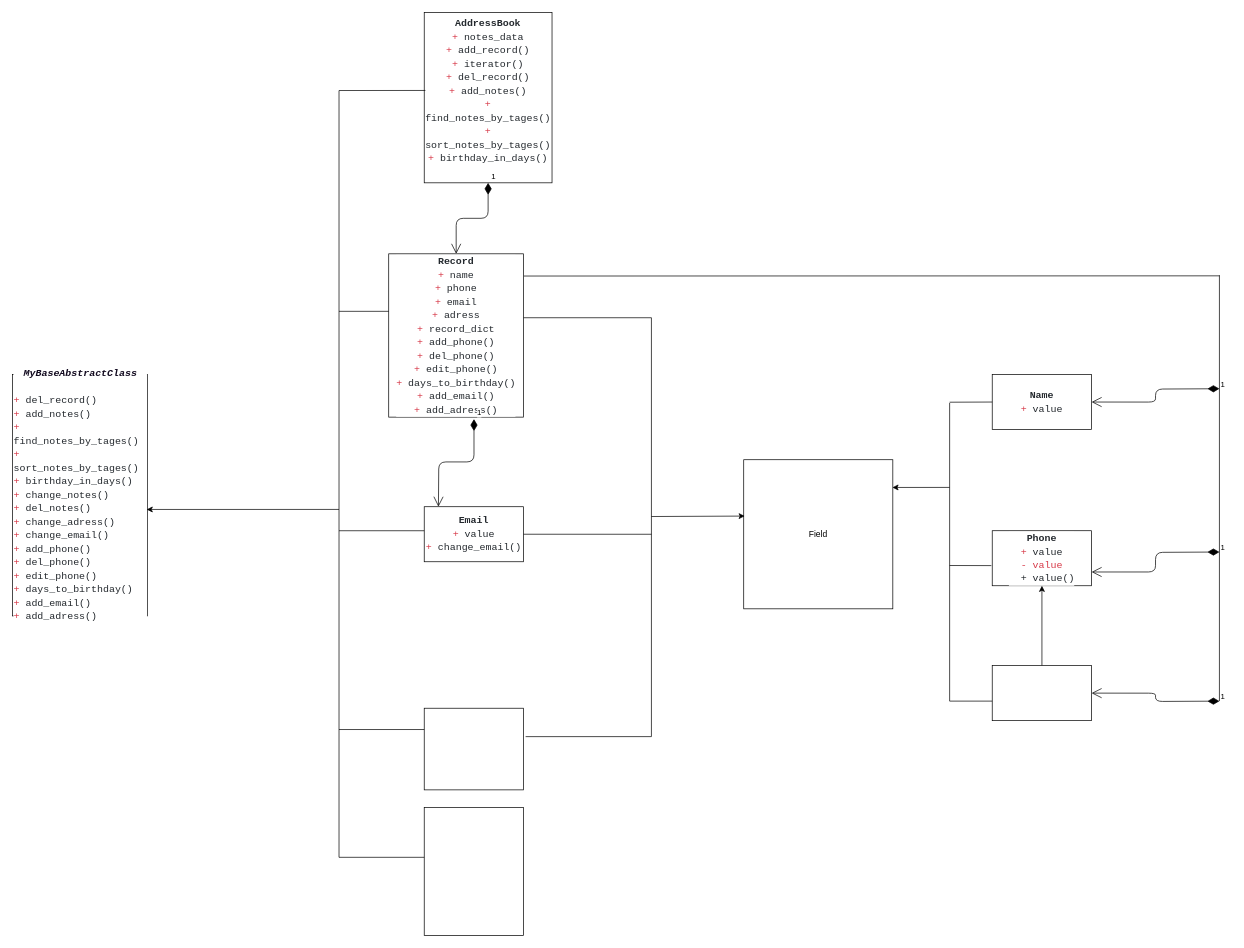
Some shapes in this 1244 by 948 pixel diagram are drawn without their labels. Here are the shapes that lost their labels. From the top down, the centre of each, then its label:
At pixel 1042 693: "Birthday + value - value + value()".
At pixel 474 749: "Adress + value + change_adress()".
At pixel 474 871: "Notes + change_notes() + del_notes()".
